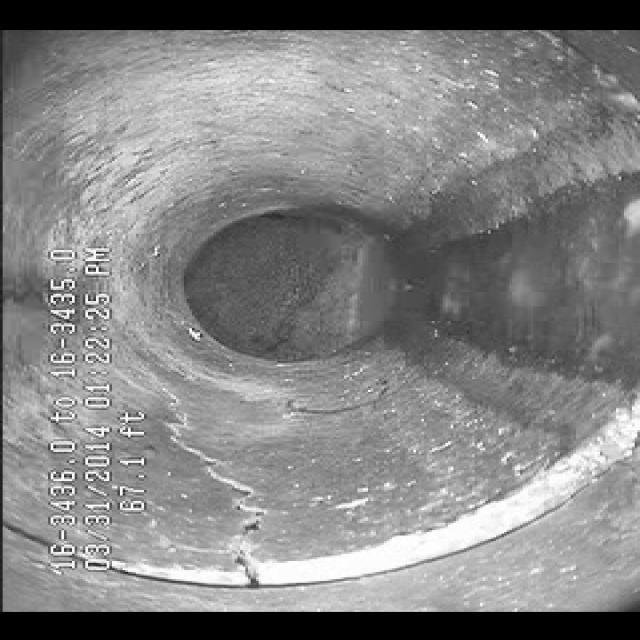Crack: (178, 423, 288, 583)
